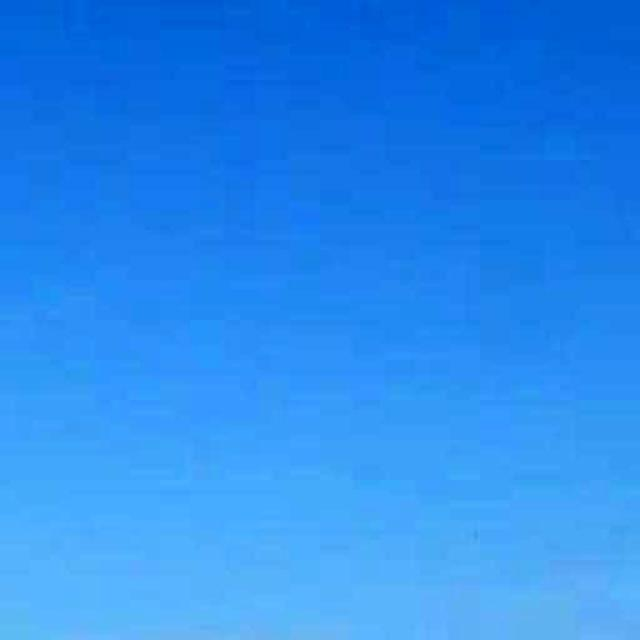drone: (438, 490, 514, 582)
